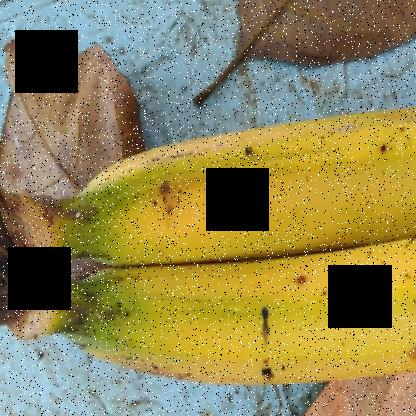freshripe: (52, 85, 415, 238)
ripe: (81, 234, 415, 415)
